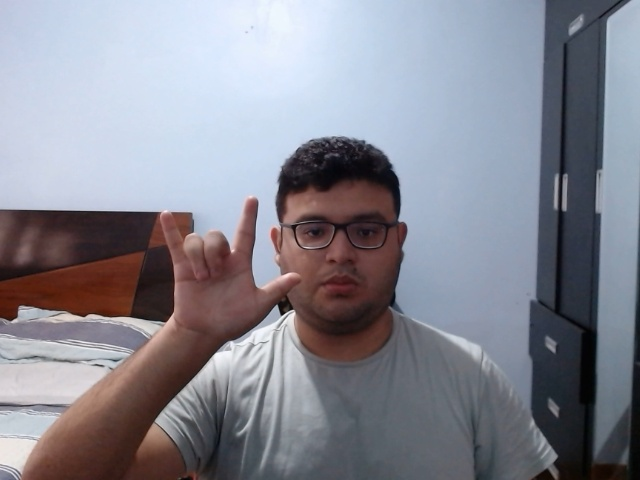I love you: (153, 190, 302, 352)
